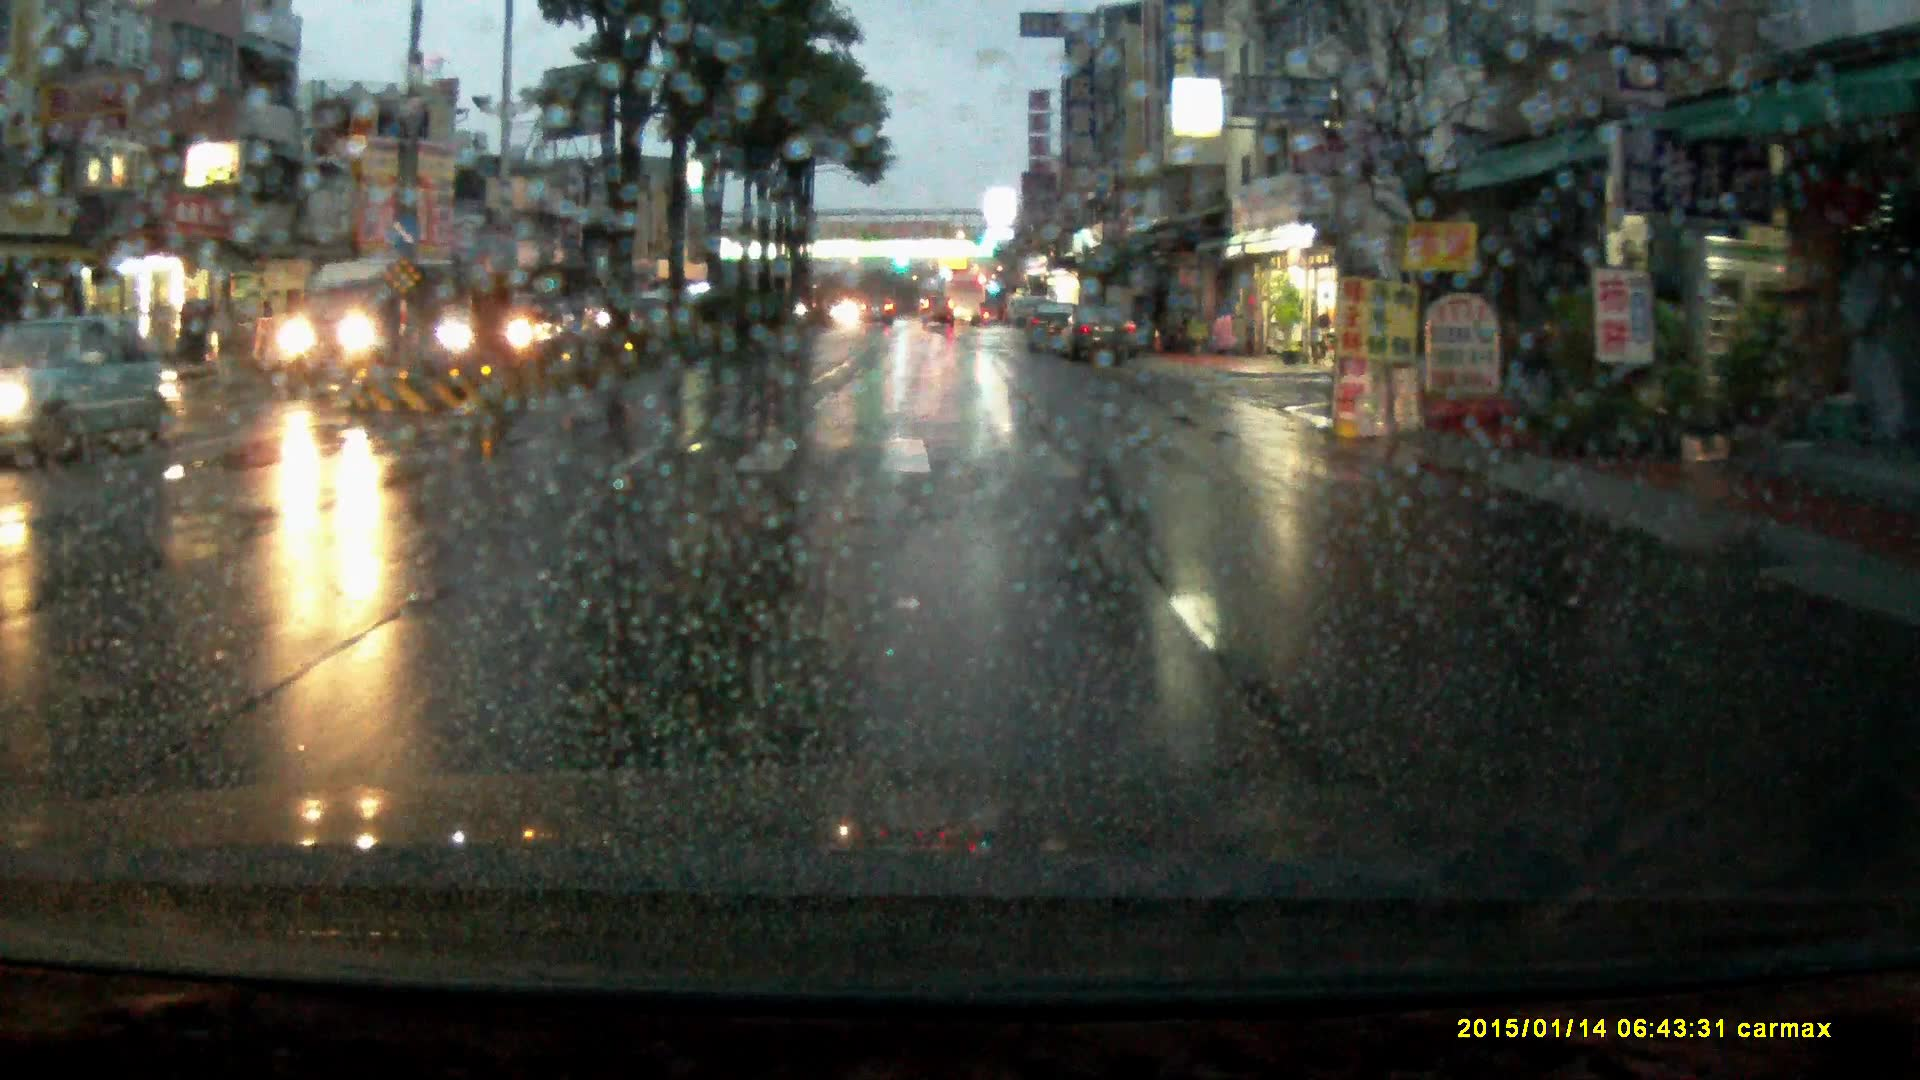vehicle: (1, 315, 164, 471), (282, 264, 454, 389), (427, 286, 555, 359), (1058, 305, 1142, 367), (1025, 301, 1080, 357), (945, 276, 986, 328), (924, 295, 957, 331), (860, 297, 895, 327)
